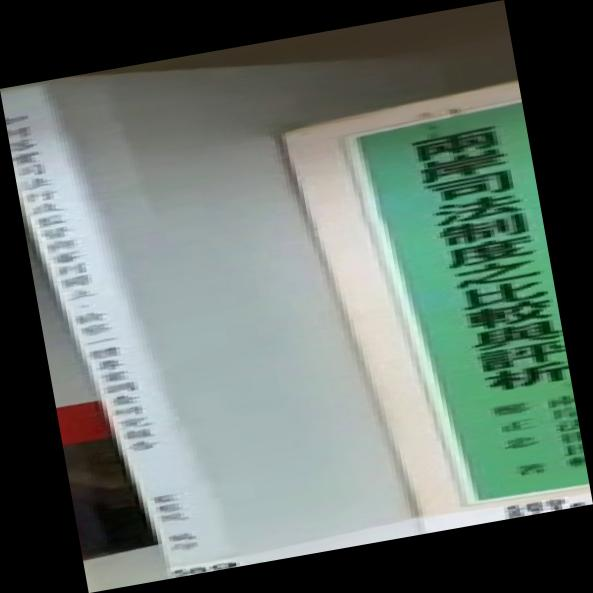book: (1, 2, 590, 593)
